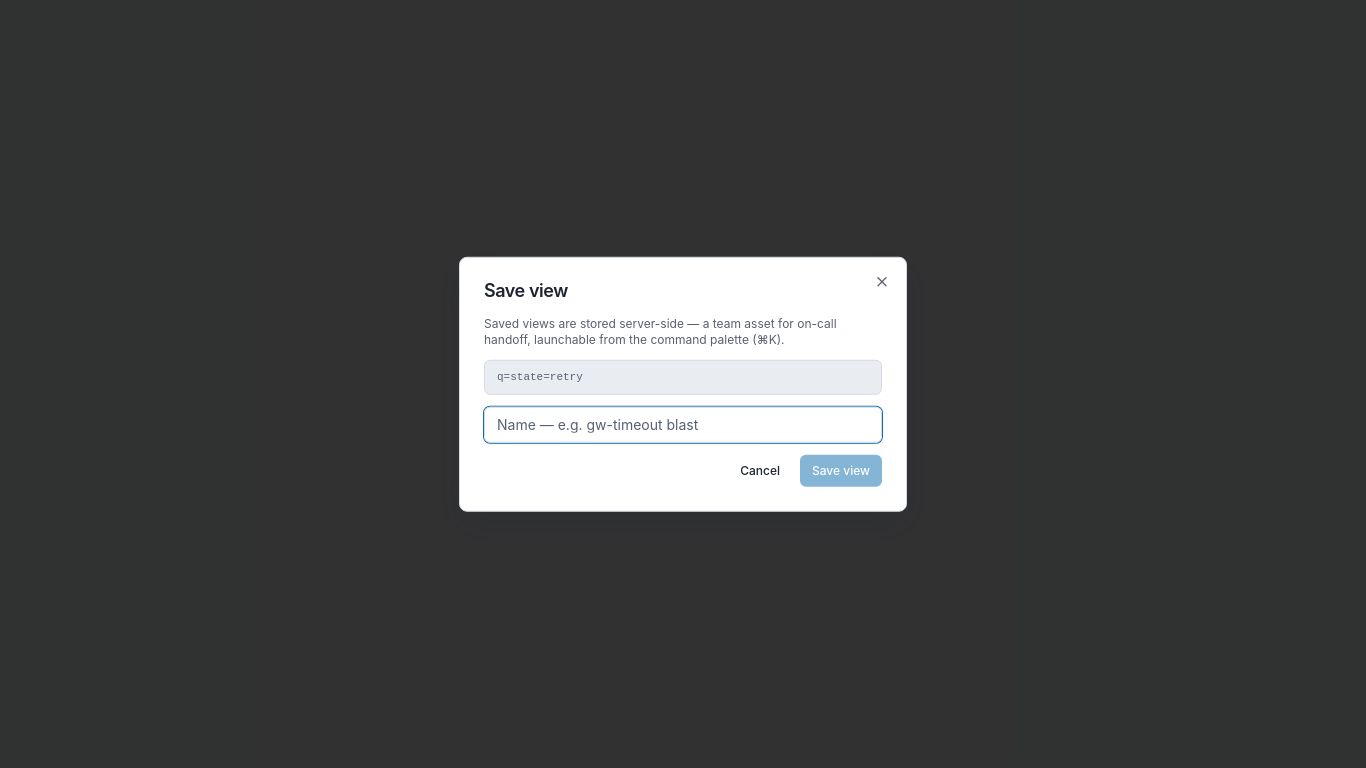
Test: SaveViewModal › refuses a name another view already uses, ignoring case, and does not POST
Step 1. Type "  GW-Timeout Blast  " into the field with placeholder "Name — e.g. gw-timeout blast" → x=683, y=424, box [484,406,882,442]
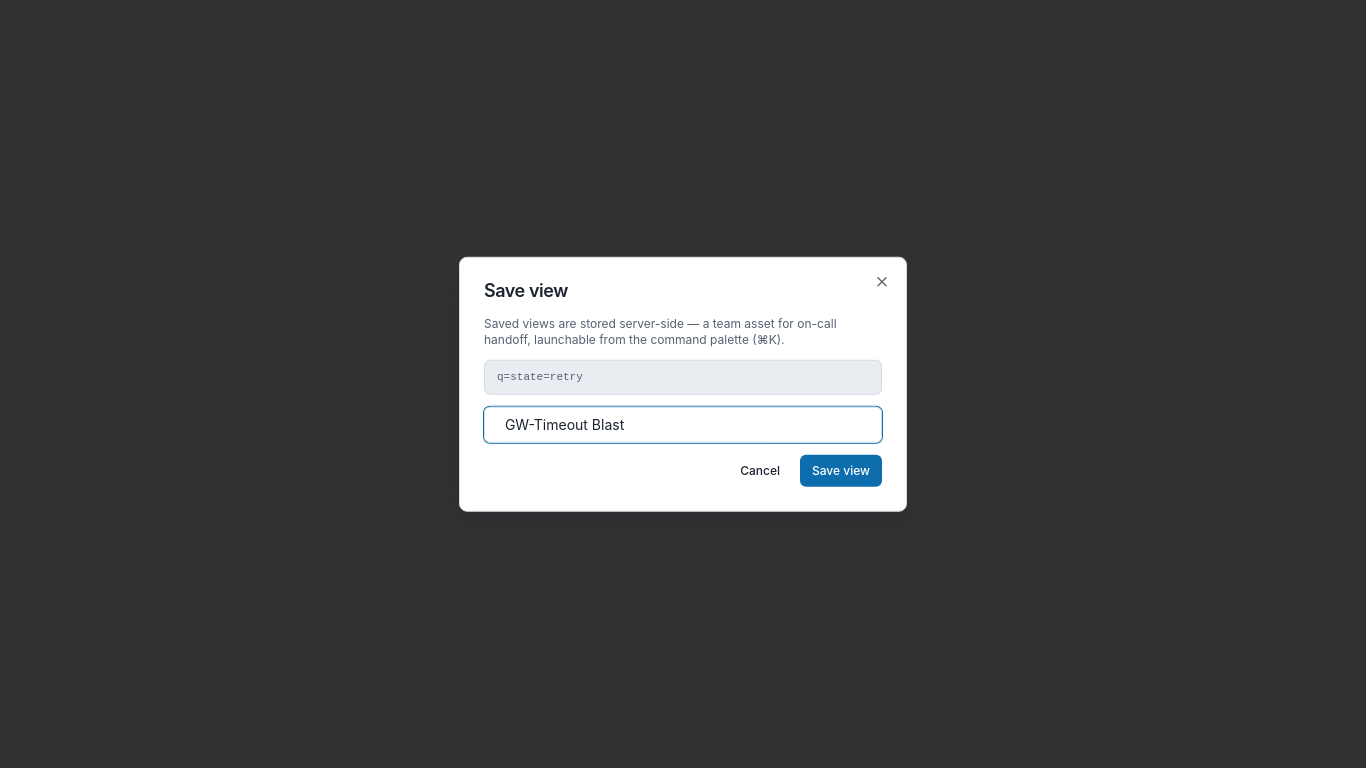
Step 2. Click the button "Save view" → x=841, y=470, box [800,454,882,486]
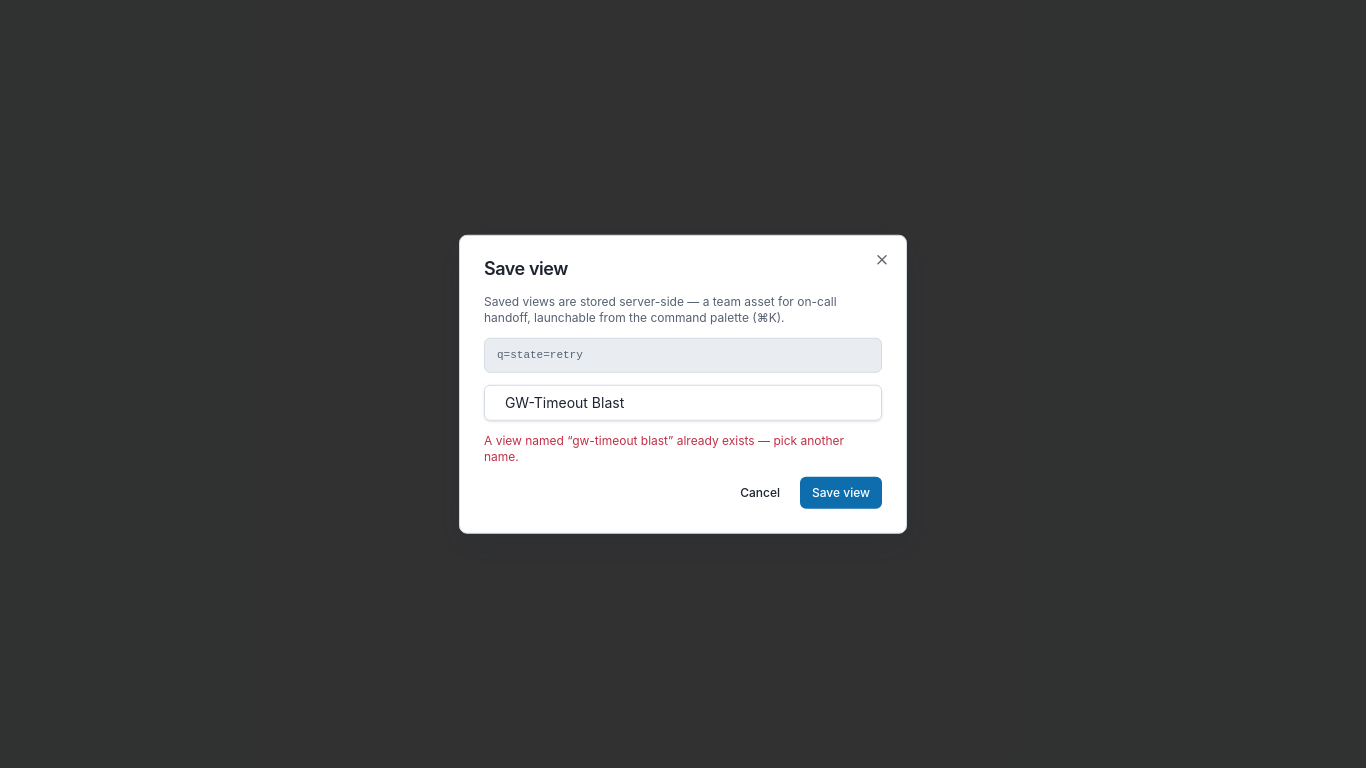
Check: the text "already exists" is shown, box [484,432,844,463]
